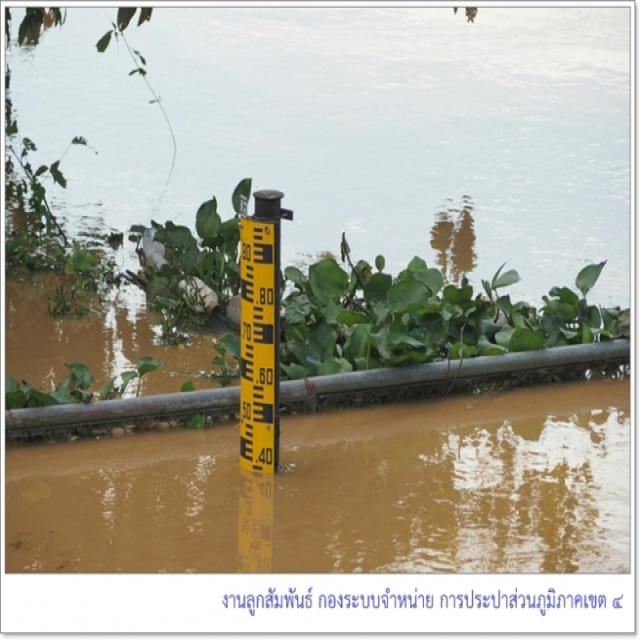ruler: (233, 208, 286, 479)
value: (254, 283, 275, 309), (252, 444, 274, 466), (254, 364, 274, 387), (239, 319, 254, 344), (240, 240, 254, 265), (240, 399, 252, 422)
